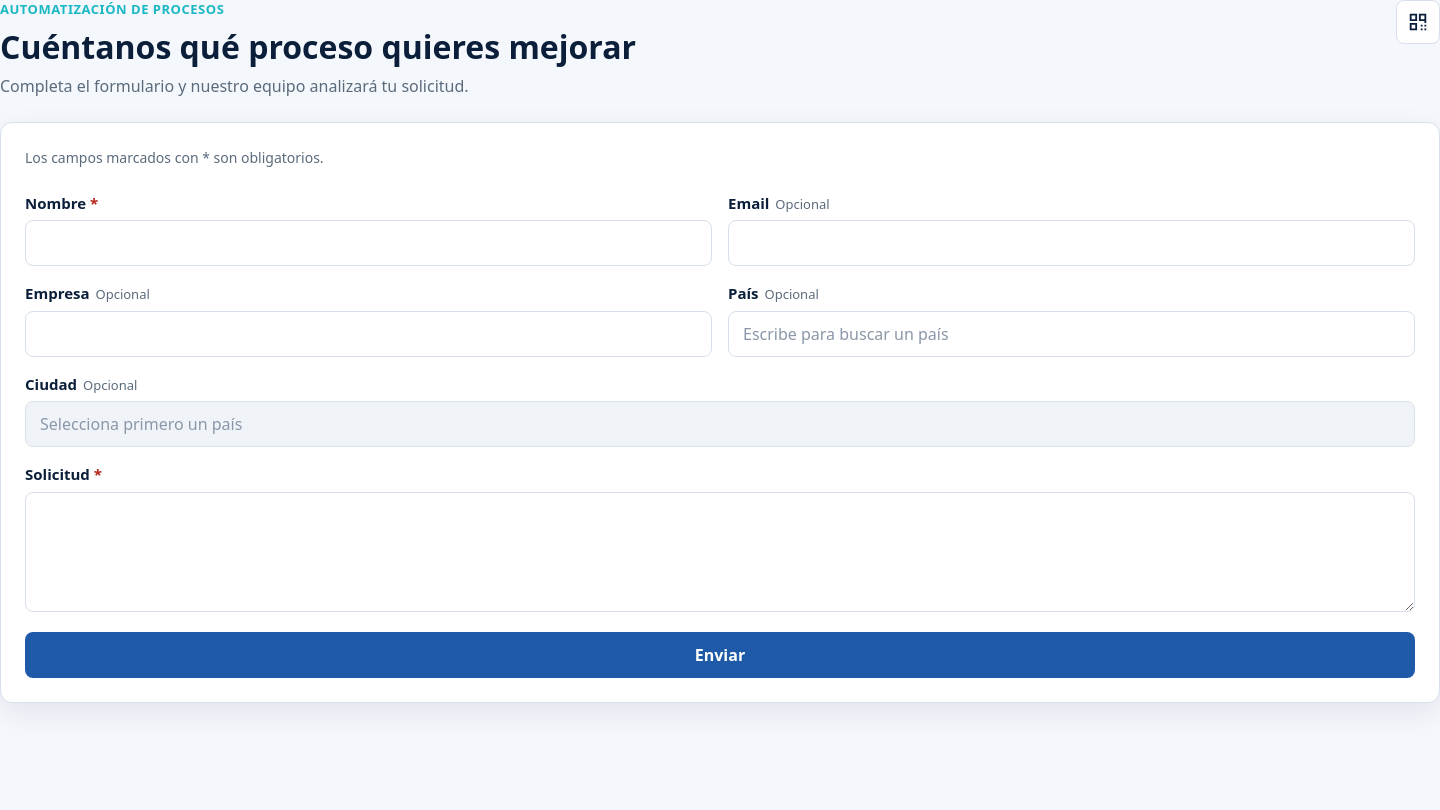
HomePage › muestra confirmación tras éxito
Expected: the field labelled "Empresa" is shown, x1=25 y1=311 x2=712 y2=357
Type "Joan" into the field labelled "Nombre *" at (368, 243), box x1=25 y1=220 x2=712 y2=266
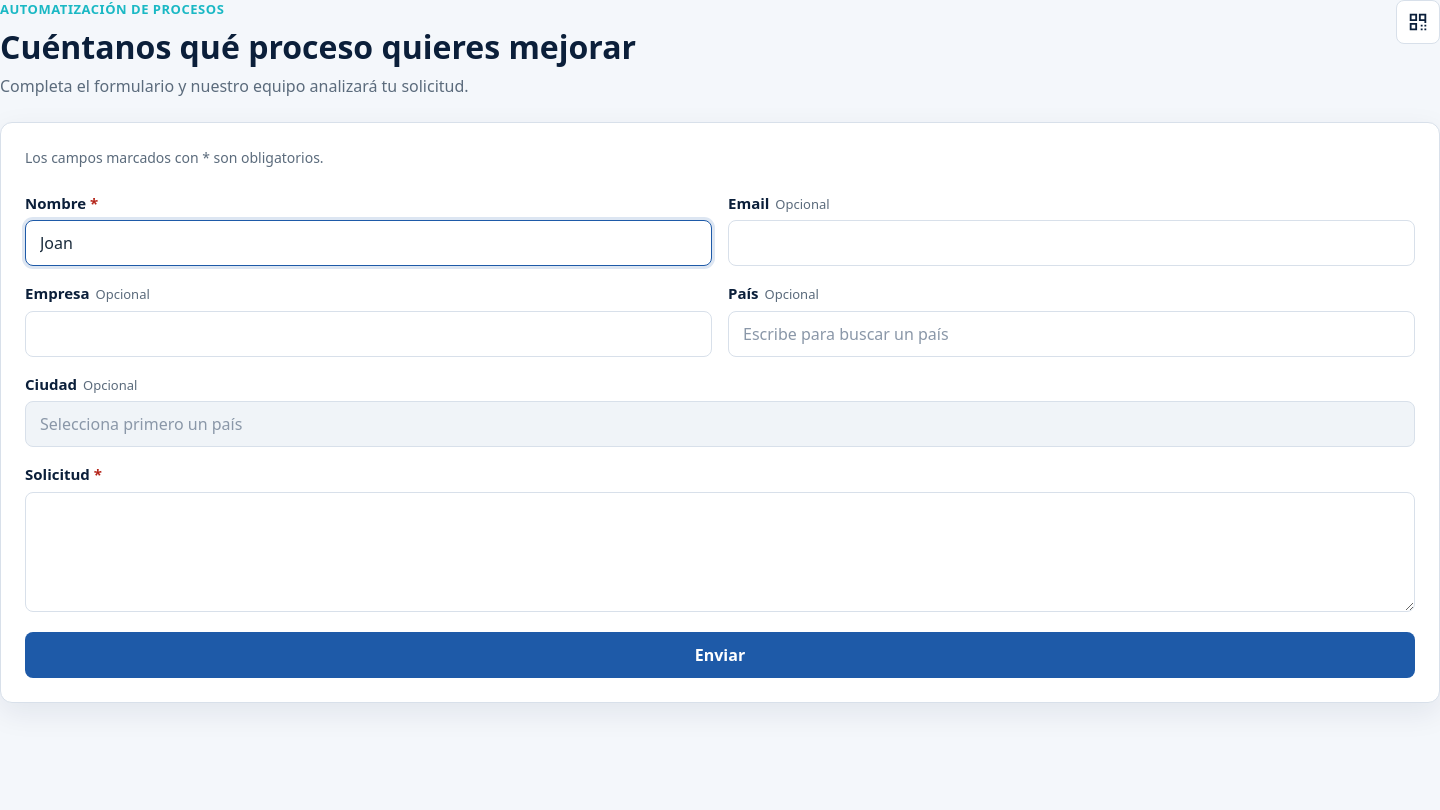
Type "joan@example.com" into the field labelled "Email" at (1072, 243), box x1=728 y1=220 x2=1415 y2=266
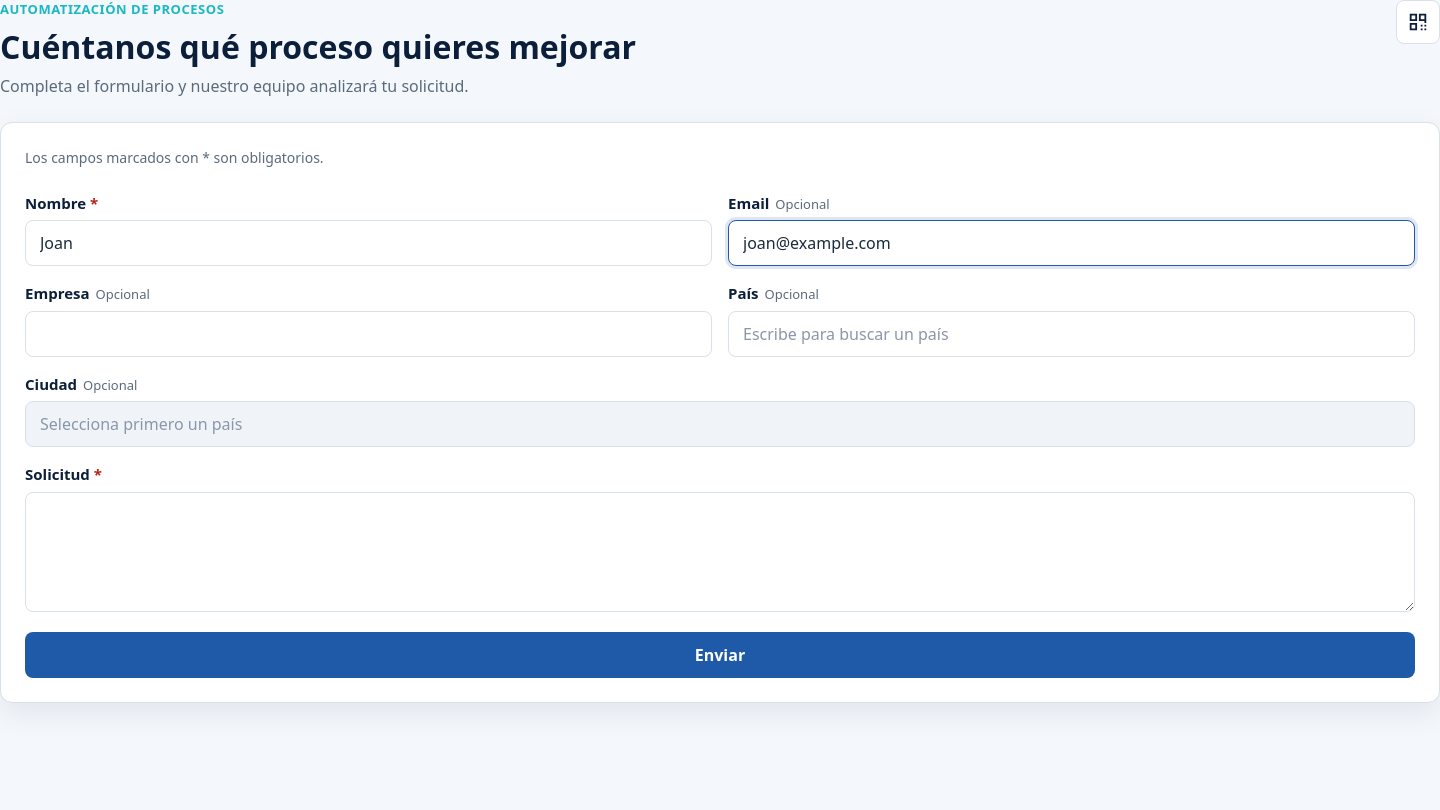
Type "Necesito ayuda" into the text box labelled "Solicitud *" at (720, 552), box x1=25 y1=492 x2=1415 y2=612
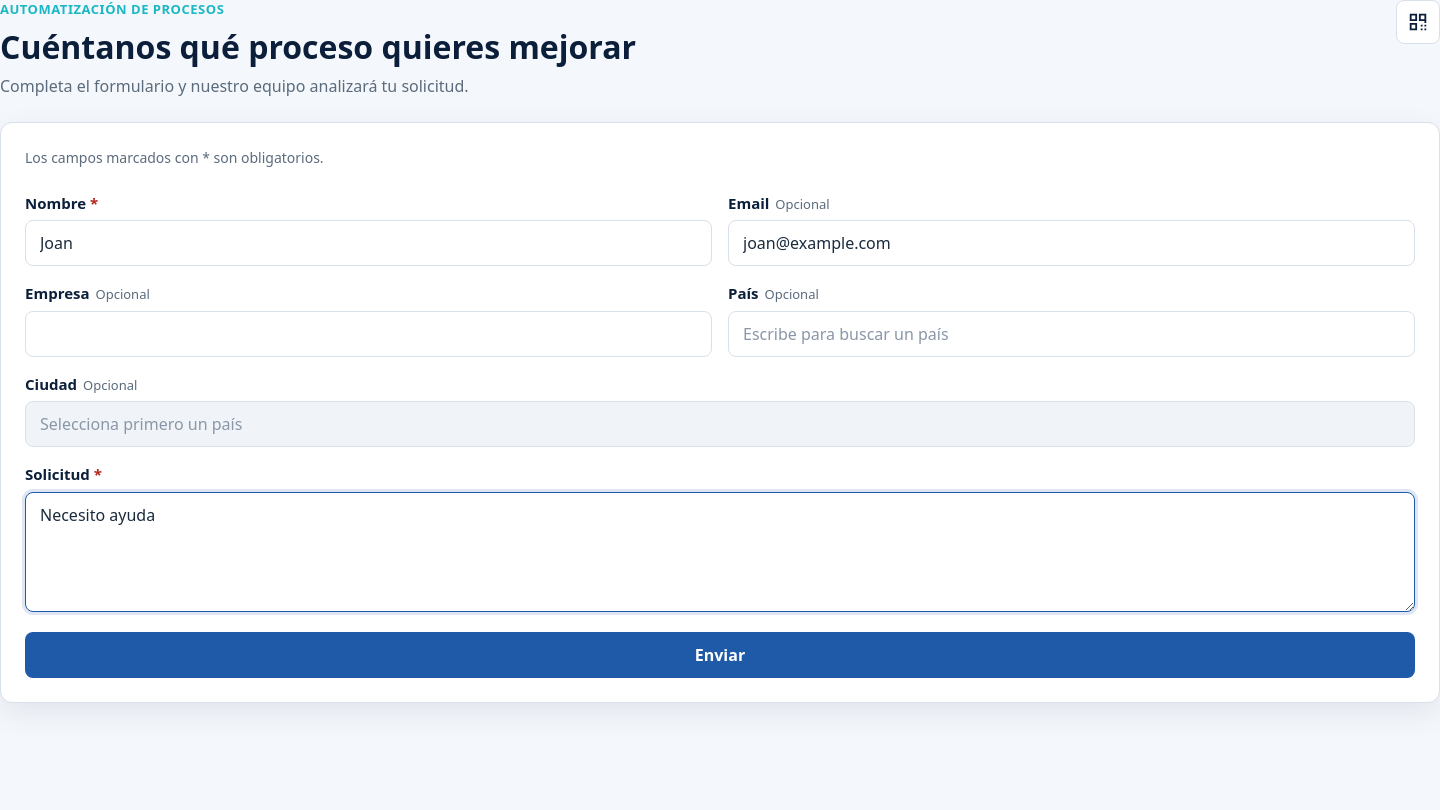
Click the button "Enviar" at (720, 655), box x1=25 y1=632 x2=1415 y2=678
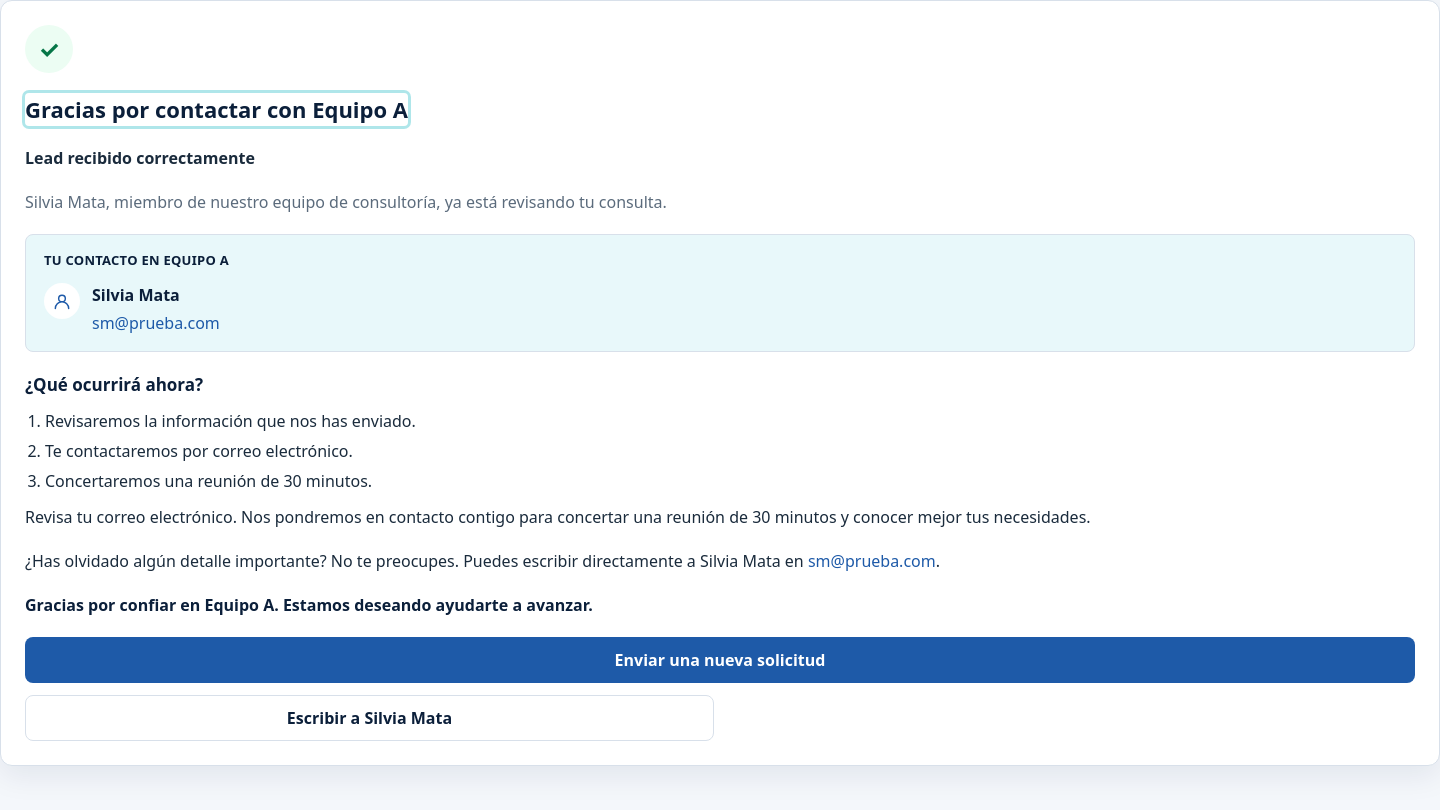
Result: the heading "Gracias por contactar con Equipo A" is shown at x1=25 y1=93 x2=408 y2=126
Result: the text "Lead recibido correctamente" is shown at x1=25 y1=146 x2=255 y2=170
Result: the text "Silvia Mata, miembro de nuestro equipo" is shown at x1=25 y1=191 x2=667 y2=213
